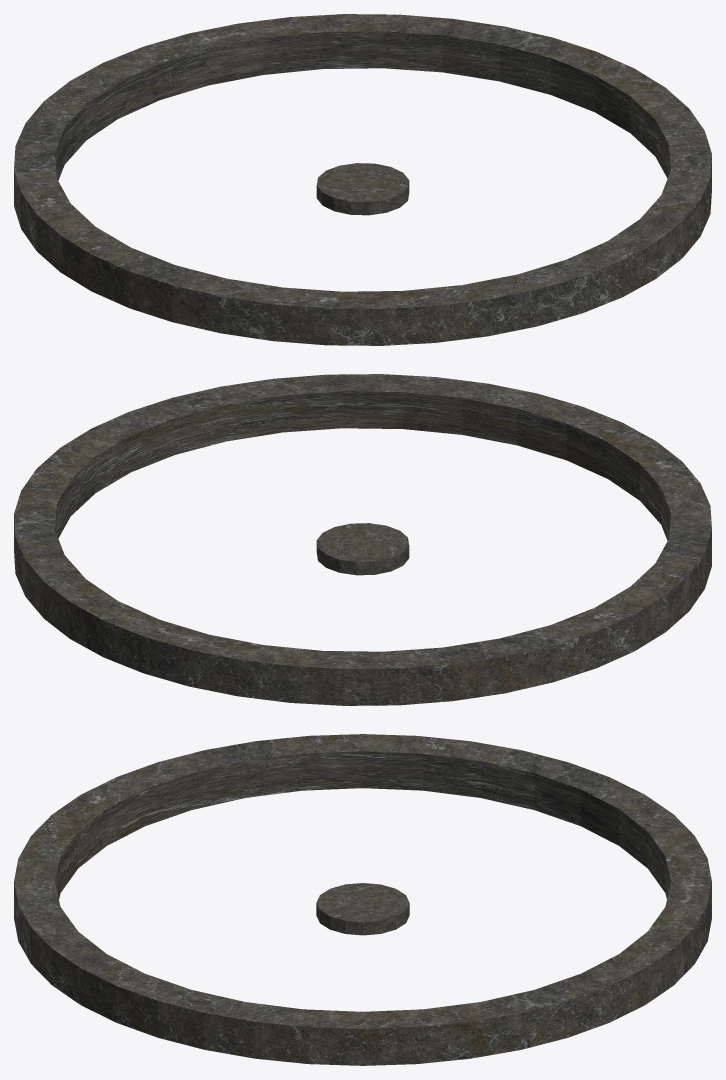
The model's file is garden.glb.
3 views of the same model, one above another, from view 1: azimuth 30°, elevation 25°; view 2: azimuth 150°, elevation 25°; view 3: azimuth 270°, elevation 25° (orthographic).
Visible parts, largest first — view 1: garden; view 2: garden; view 3: garden.
Boxes of the visible parts, x1,y1,x2,y2 form: garden: (14,14,711,345); garden: (14,374,711,705); garden: (14,734,711,1065).
Size of the model in its own units: 24 by 1.4 by 24.
Materials: 1 (1 with a texture image).
